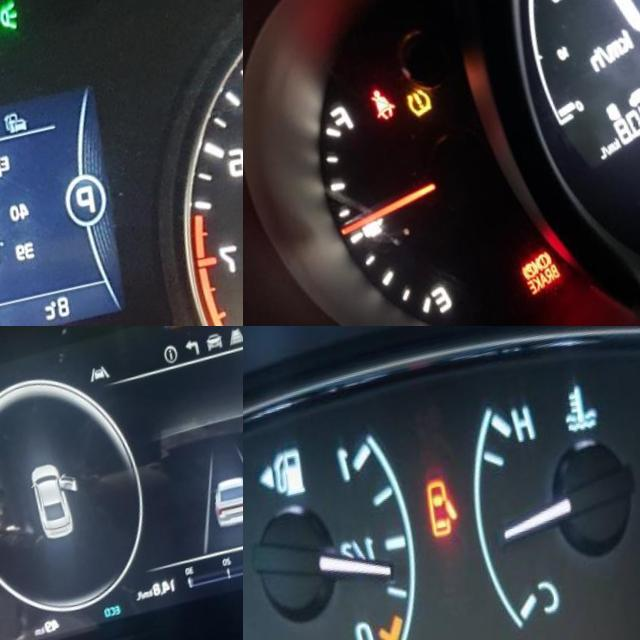LaneCenteringOff: (82, 373, 104, 392)
SideLamp: (0, 13, 17, 52)
